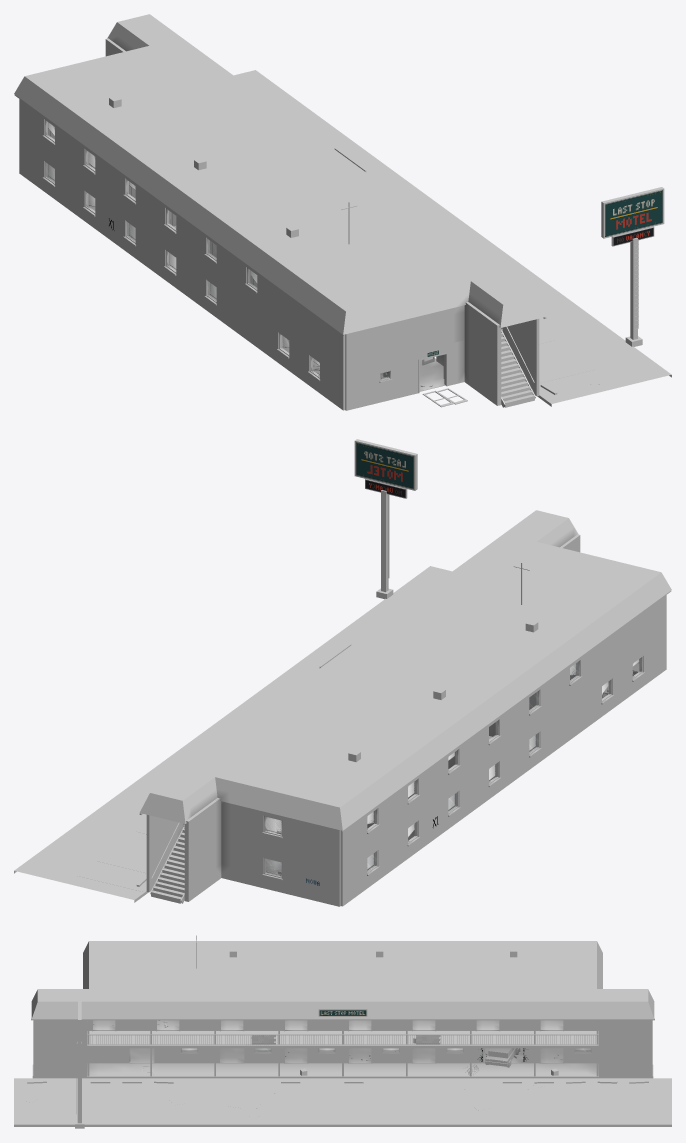
Rendered from motel.glb.
The picture shows the model from 3 angles, top to bottom: view 1: azimuth 30°, elevation 25°; view 2: azimuth 150°, elevation 25°; view 3: azimuth 270°, elevation 25°; orthographic projection. The views are drawn at different scales.
Parts seen in each view (by area): view 1: motel; view 2: motel; view 3: motel.
Part boxes in pixels (x1,y1,x2,y2): motel: (14,14,671,410); motel: (14,439,671,906); motel: (14,935,671,1128).
Bounding box in the file's own units: 23.82 × 10.97 × 54.
Materials: 4 (3 with a texture image).
